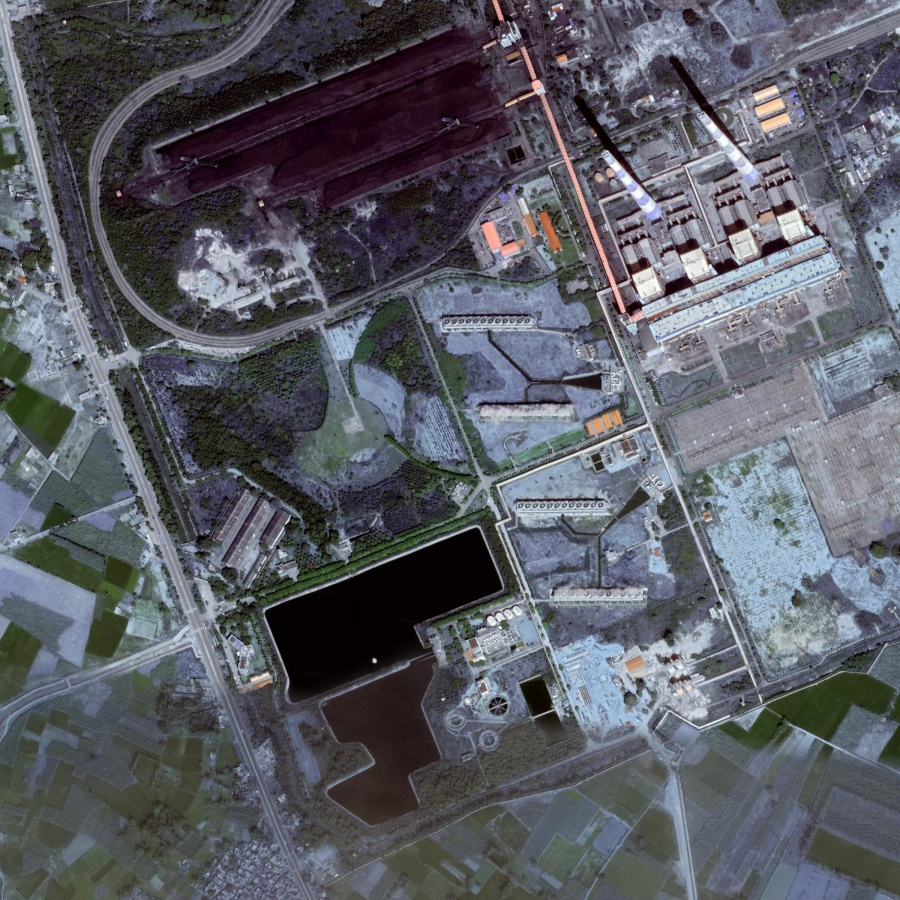PowerPlant: (244, 518, 514, 746), (563, 48, 800, 254)
